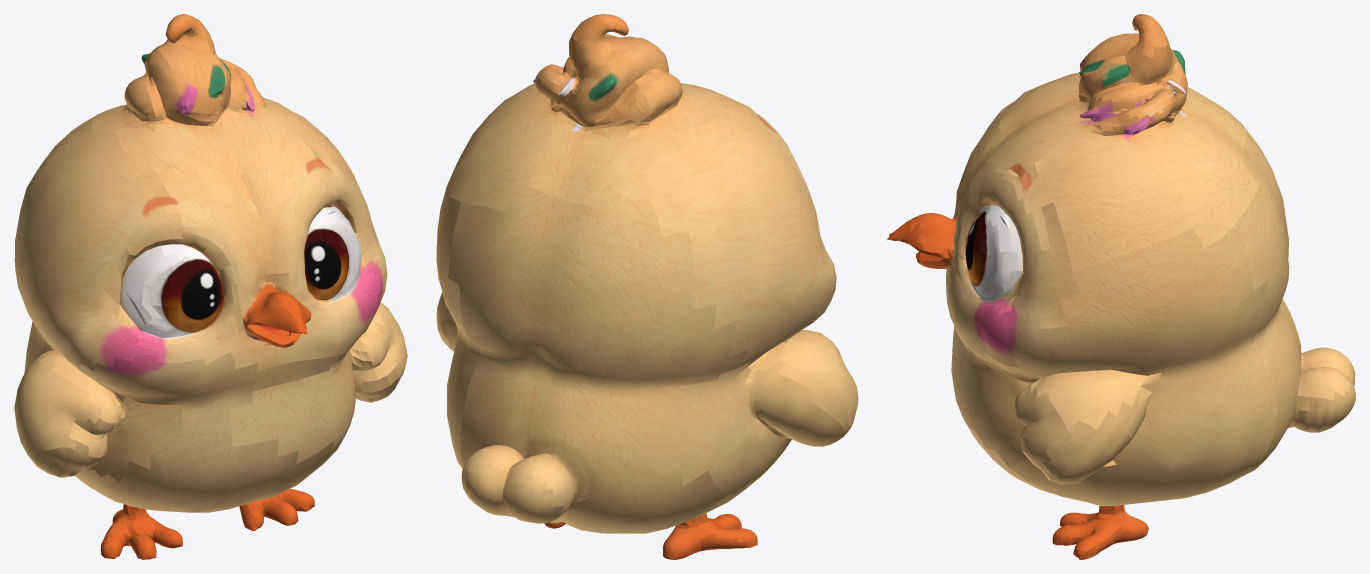
The model's file is asset_model_urls_glb.glb.
The picture shows the model from 3 angles, left to right: view 1: azimuth 30°, elevation 25°; view 2: azimuth 150°, elevation 25°; view 3: azimuth 270°, elevation 25°; orthographic projection. The views are drawn at different scales.
Size of the model in its own units: 1.51 by 1.9 by 1.62.
1 material, 1 textured.
